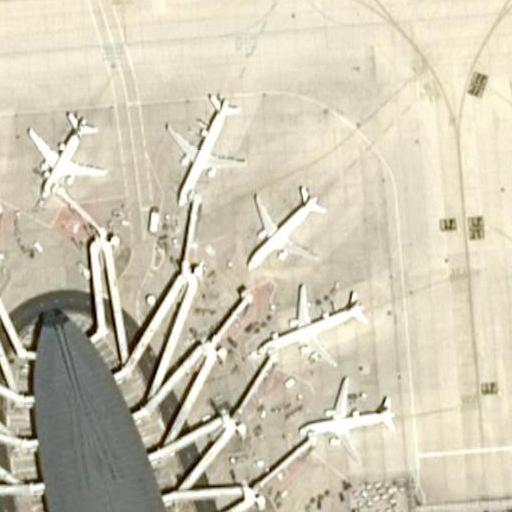Aircraft: (160, 82, 248, 204), (255, 282, 368, 368), (238, 177, 329, 272), (19, 104, 108, 199), (291, 379, 395, 457)
